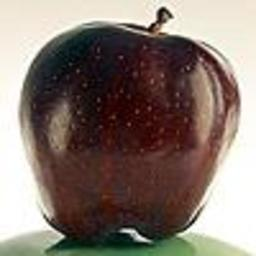apple: (17, 21, 241, 241)
